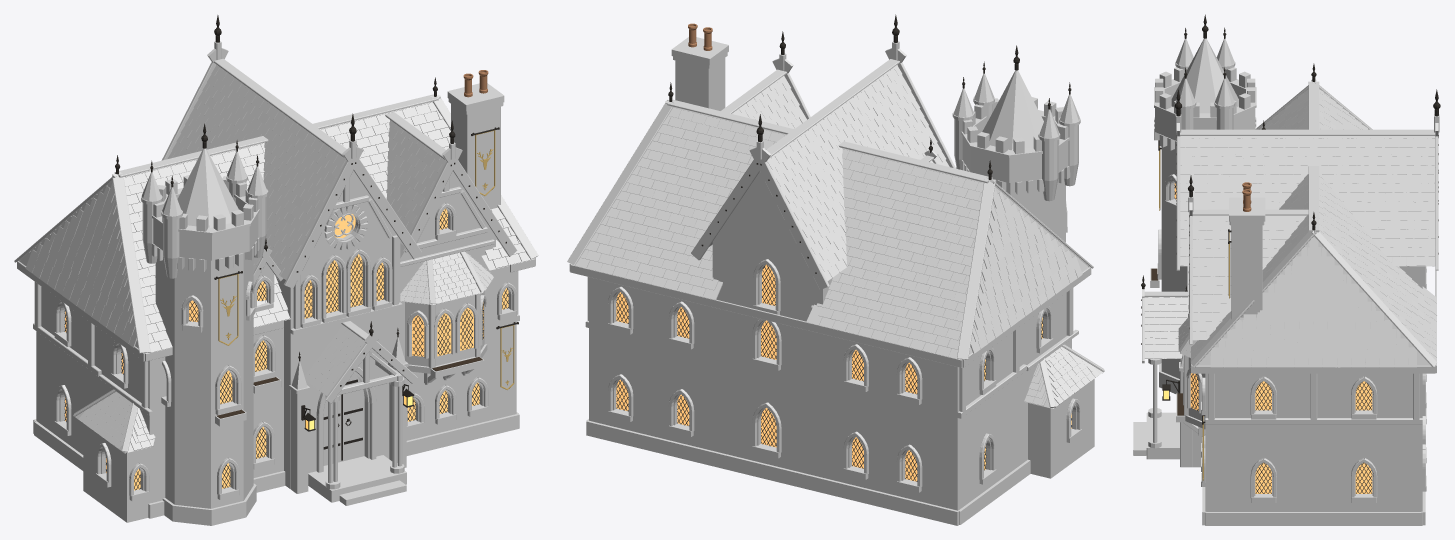
Rendered from SilverbrookNorthridgeHouse6.glb.
3 renders of one model, left to right at view 1: azimuth 30°, elevation 25°; view 2: azimuth 150°, elevation 25°; view 3: azimuth 270°, elevation 25°, orthographic. The views are drawn at different scales.
Visible parts, largest first — view 1: SM_SBNorthridgeHouse6_Masonry, SM_SBNorthridgeHouse6_Roof, SM_SBNorthridgeHouse6_Dressed, SM_SBNorthridgeHouse6_Timber, SM_SBNorthridgeHouse6_Details, SM_SBNorthridgeHouse6_Door2, SM_SBNorthridgeHouse6_Door1; view 2: SM_SBNorthridgeHouse6_Roof, SM_SBNorthridgeHouse6_Masonry, SM_SBNorthridgeHouse6_Dressed, SM_SBNorthridgeHouse6_Timber, SM_SBNorthridgeHouse6_Details; view 3: SM_SBNorthridgeHouse6_Roof, SM_SBNorthridgeHouse6_Masonry, SM_SBNorthridgeHouse6_Dressed, SM_SBNorthridgeHouse6_Timber, SM_SBNorthridgeHouse6_Details.
Boxes of the visible parts, x1=… form: SM_SBNorthridgeHouse6_Masonry: x1=36, y1=104, x2=516, y2=522; SM_SBNorthridgeHouse6_Roof: x1=14, y1=58, x2=538, y2=453; SM_SBNorthridgeHouse6_Dressed: x1=33, y1=83, x2=519, y2=525; SM_SBNorthridgeHouse6_Timber: x1=17, y1=41, x2=535, y2=426; SM_SBNorthridgeHouse6_Details: x1=64, y1=15, x2=518, y2=490; SM_SBNorthridgeHouse6_Door2: x1=341, y1=373, x2=364, y2=461; SM_SBNorthridgeHouse6_Door1: x1=323, y1=395, x2=341, y2=465; SM_SBNorthridgeHouse6_Roof: x1=567, y1=59, x2=1104, y2=408; SM_SBNorthridgeHouse6_Masonry: x1=589, y1=58, x2=1094, y2=510; SM_SBNorthridgeHouse6_Dressed: x1=586, y1=37, x2=1082, y2=525; SM_SBNorthridgeHouse6_Timber: x1=569, y1=41, x2=1091, y2=418; SM_SBNorthridgeHouse6_Details: x1=616, y1=14, x2=1071, y2=481; SM_SBNorthridgeHouse6_Roof: x1=1144, y1=38, x2=1437, y2=367; SM_SBNorthridgeHouse6_Masonry: x1=1155, y1=67, x2=1422, y2=511; SM_SBNorthridgeHouse6_Dressed: x1=1133, y1=61, x2=1426, y2=525; SM_SBNorthridgeHouse6_Timber: x1=1142, y1=114, x2=1439, y2=436; SM_SBNorthridgeHouse6_Details: x1=1141, y1=14, x2=1440, y2=493.
Bounding box in the file's own units: 10.93 × 9.63 × 7.35.
